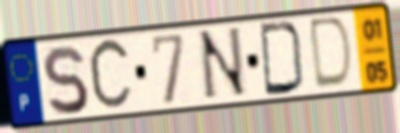7: (149, 31, 188, 108)
C: (85, 34, 135, 117)
D: (257, 20, 307, 98), (309, 14, 356, 92)
N: (196, 25, 251, 105)
S: (40, 43, 91, 119)
